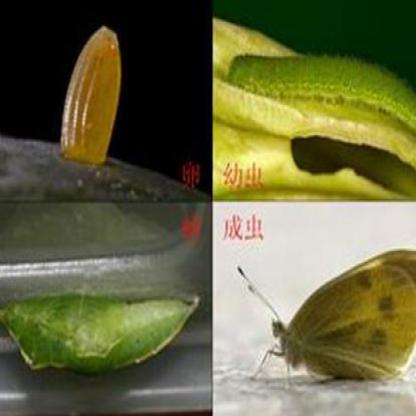armyworm: (243, 254, 416, 379), (4, 291, 203, 380), (233, 30, 414, 121), (60, 24, 128, 175)
